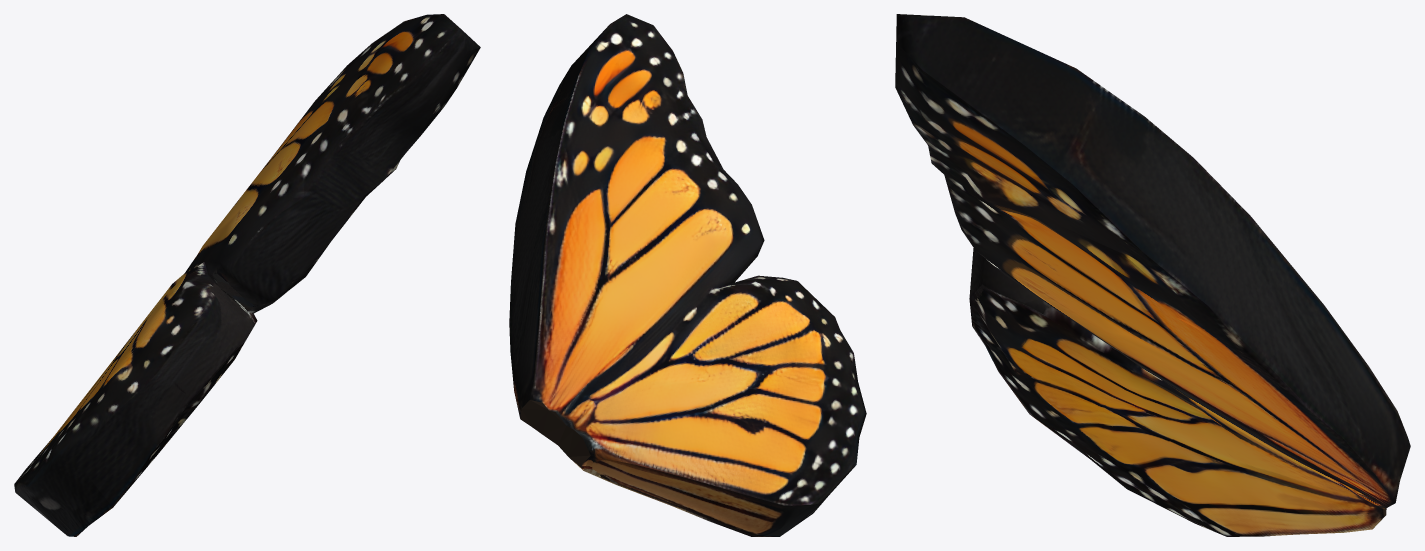
The model's file is ala-derecha.obj.
The picture shows the model from 3 angles, left to right: view 1: azimuth 30°, elevation 25°; view 2: azimuth 150°, elevation 25°; view 3: azimuth 270°, elevation 25°; orthographic projection. The views are drawn at different scales.
Visible parts, largest first — view 1: model.045; view 2: model.045; view 3: model.045.
Part boxes in pixels (box(x1,y1,x2,y2)): model.045: box(14, 14, 480, 536); model.045: box(509, 14, 866, 536); model.045: box(895, 14, 1410, 536).
Size of the model in its own units: 0.0253 by 0.0303 by 0.02.
1 material, 1 textured.
